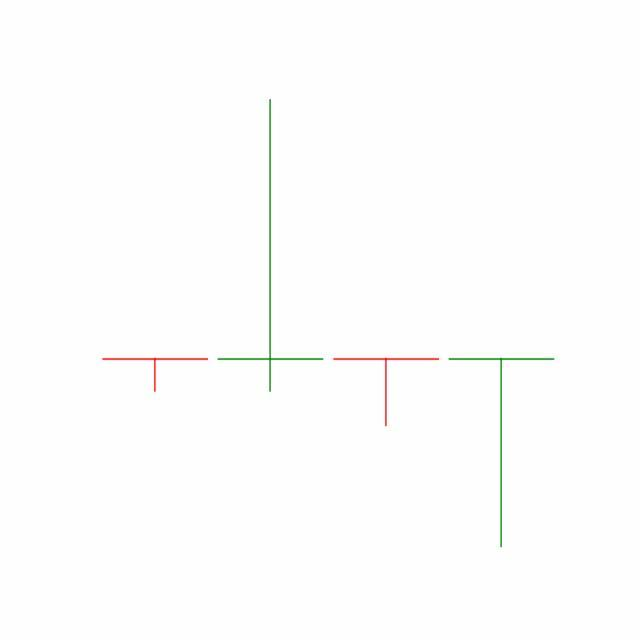Dragonfly Doji: (444, 356, 560, 551)
